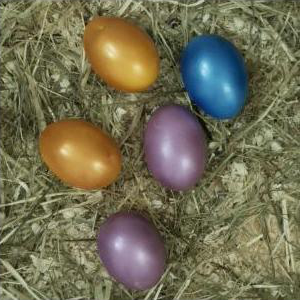egg: (83, 17, 161, 94), (143, 104, 211, 191), (40, 119, 123, 190), (97, 211, 168, 291), (182, 36, 248, 118)
